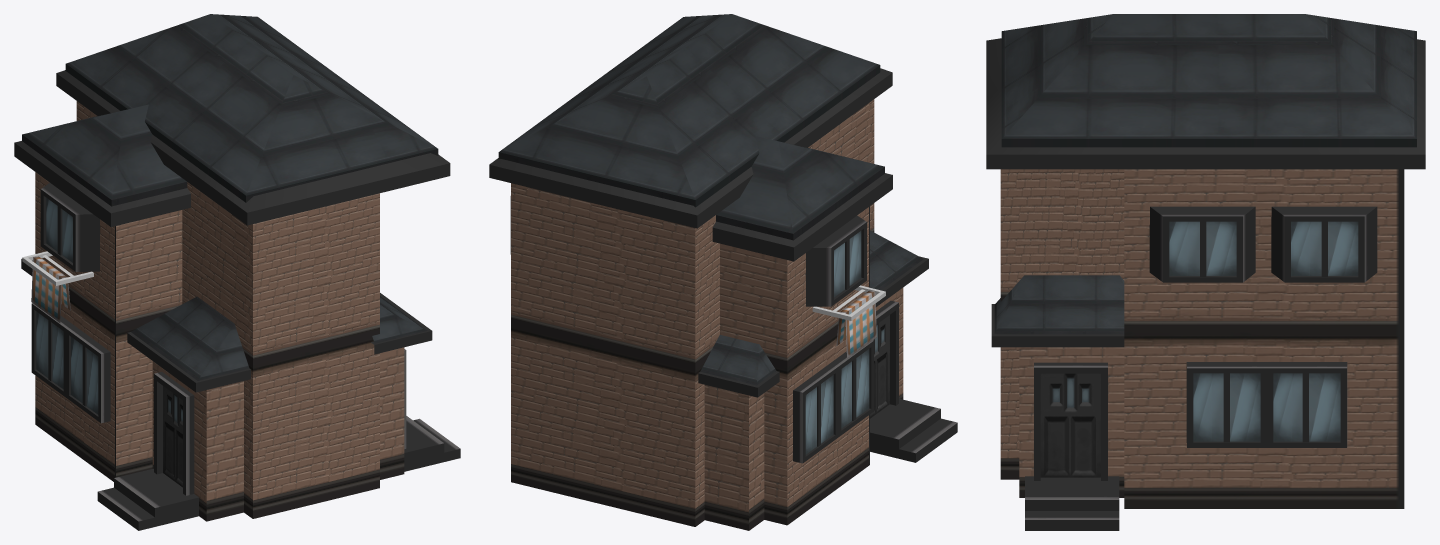
The model's file is modern house-3.FBX.
3 views of the same model, side by side, from view 1: azimuth 30°, elevation 25°; view 2: azimuth 150°, elevation 25°; view 3: azimuth 270°, elevation 25° (orthographic). The views are drawn at different scales.
Visible parts, largest first — view 1: modern house-3; view 2: modern house-3; view 3: modern house-3.
Part boxes in pixels (<box>): modern house-3: <box>14,14,460,530</box>; modern house-3: <box>489,14,957,530</box>; modern house-3: <box>986,14,1425,530</box>.
Size of the model in its own units: 3255 by 3727 by 3335.
